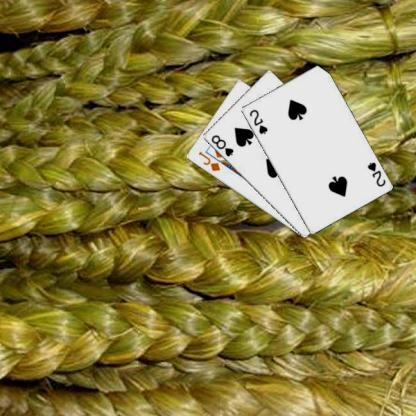2S: (247, 107, 269, 136), (364, 159, 386, 188)
8S: (208, 132, 235, 158)
JD: (195, 148, 221, 173)
